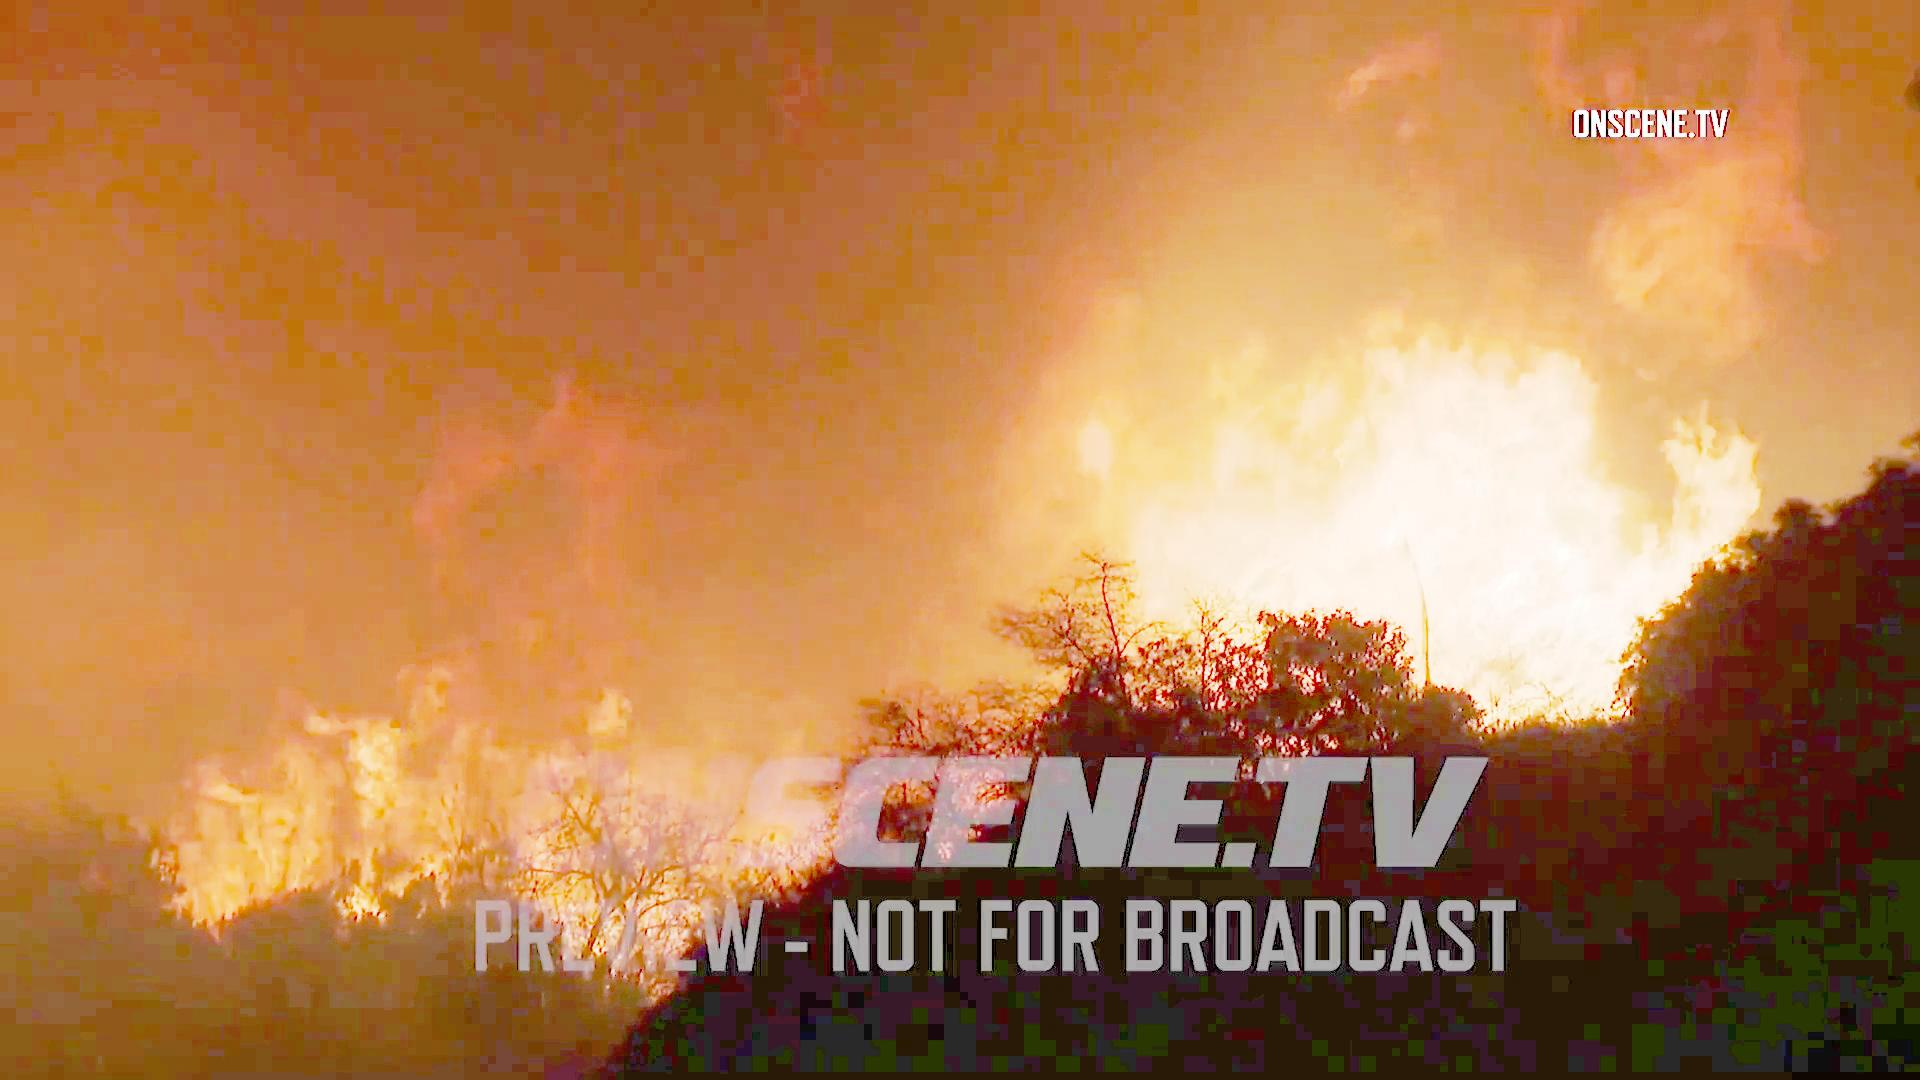fire: (1108, 278, 1656, 692), (164, 703, 687, 960)
smoke: (0, 0, 909, 508)
